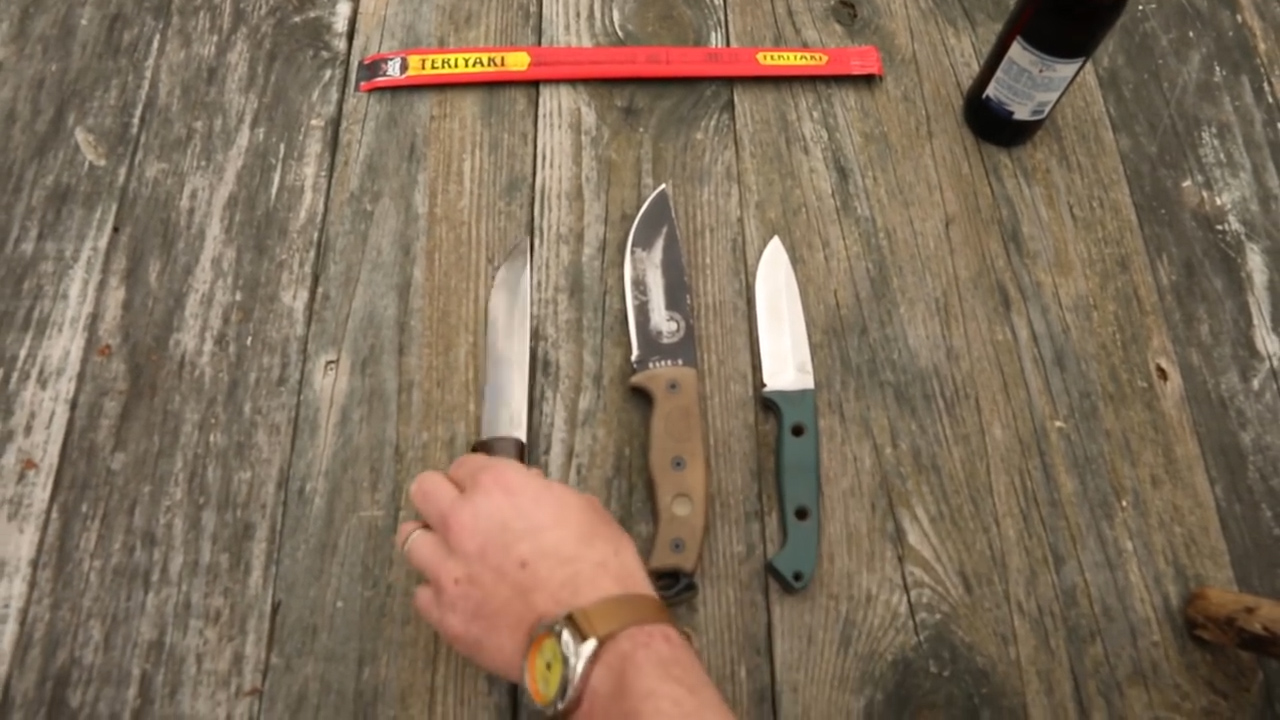knife: (380, 214, 568, 551), (605, 167, 723, 423), (743, 217, 836, 428)
